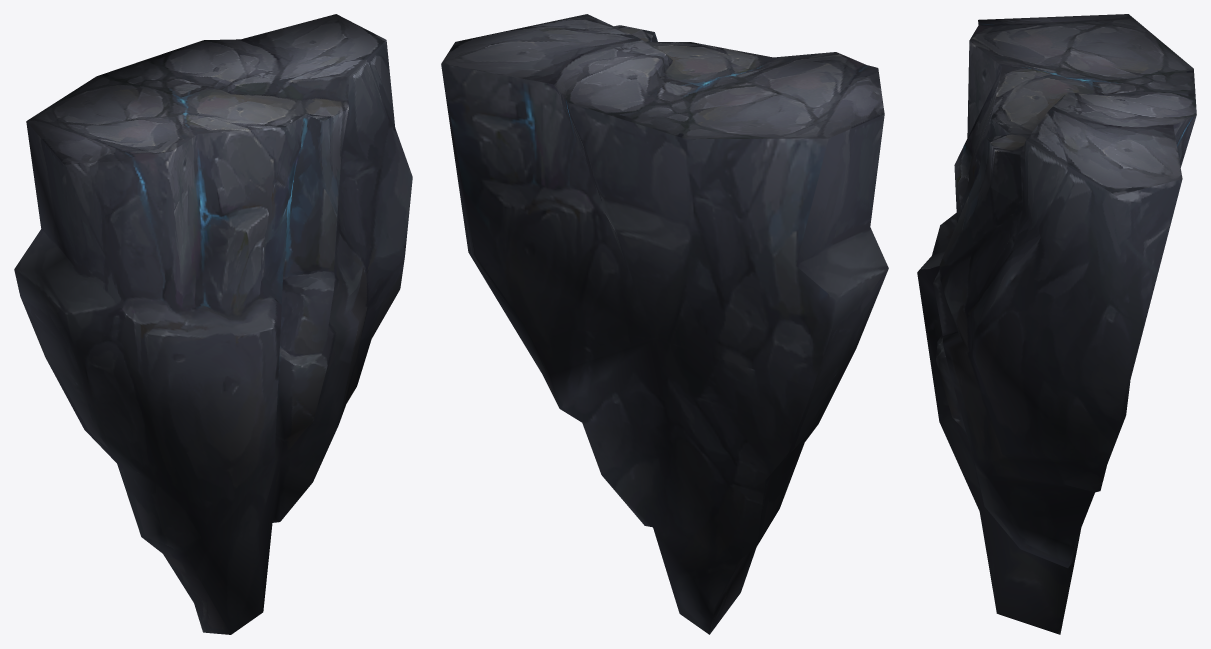
The model's file is fb_chisd_st_15.FBX.
3 views of the same model, side by side, from view 1: azimuth 30°, elevation 25°; view 2: azimuth 150°, elevation 25°; view 3: azimuth 270°, elevation 25° (orthographic). The views are drawn at different scales.
Parts seen in each view (by area): view 1: fb_chisd_st_15; view 2: fb_chisd_st_15; view 3: fb_chisd_st_15.
Part boxes in pixels (x1=…): fb_chisd_st_15: x1=14, y1=14, x2=412, y2=634; fb_chisd_st_15: x1=441, y1=14, x2=888, y2=634; fb_chisd_st_15: x1=917, y1=14, x2=1196, y2=634.
Bounding box in the file's own units: 258 × 363 × 164.
